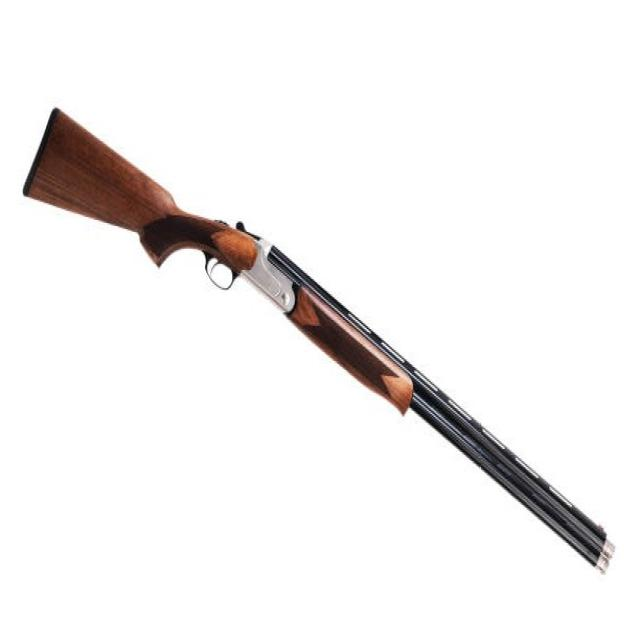rifle: (19, 103, 620, 584)
